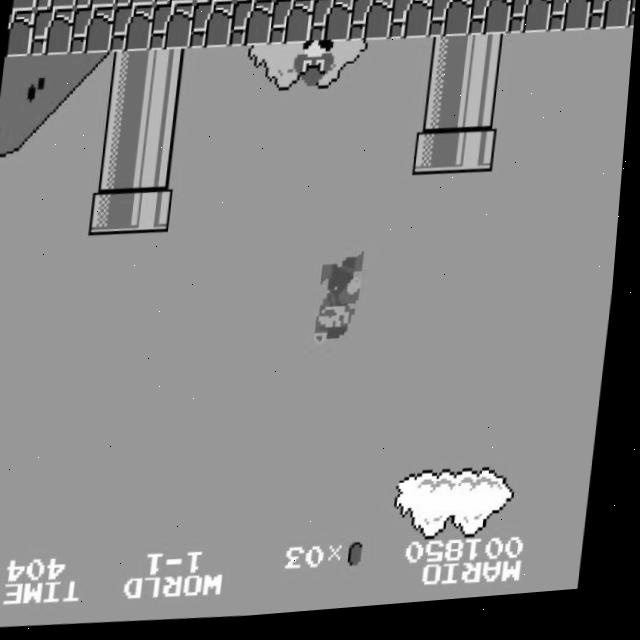0- big_mario: (319, 256, 371, 354)
14- pipe: (464, 41, 510, 91), (424, 42, 470, 92), (144, 50, 190, 100), (100, 97, 146, 147), (459, 87, 505, 136), (419, 88, 465, 137), (136, 142, 182, 191), (140, 96, 186, 145), (96, 144, 142, 193), (105, 52, 151, 101)
15- pipe_head: (131, 187, 177, 237), (91, 189, 137, 239), (454, 133, 500, 182), (415, 134, 460, 183)
17- undestructible_block: (269, 1, 315, 51), (229, 2, 275, 52), (189, 3, 235, 53), (149, 4, 195, 54), (309, 0, 355, 49), (109, 6, 155, 55), (69, 7, 115, 56), (29, 8, 75, 57), (348, 0, 394, 48), (388, 0, 434, 47), (428, 0, 474, 46), (468, 0, 514, 45), (508, 0, 554, 44), (548, 0, 594, 42), (588, 0, 634, 41), (5, 10, 36, 58), (34, 0, 77, 12), (114, 0, 157, 10), (74, 0, 117, 10), (628, 0, 638, 38), (154, 0, 197, 8), (9, 0, 37, 12), (194, 0, 237, 7), (234, 0, 277, 6), (313, 0, 357, 4), (274, 0, 317, 4), (353, 0, 396, 3), (393, 0, 436, 1), (433, 0, 476, 0)
8- goomba: (292, 43, 340, 96)
